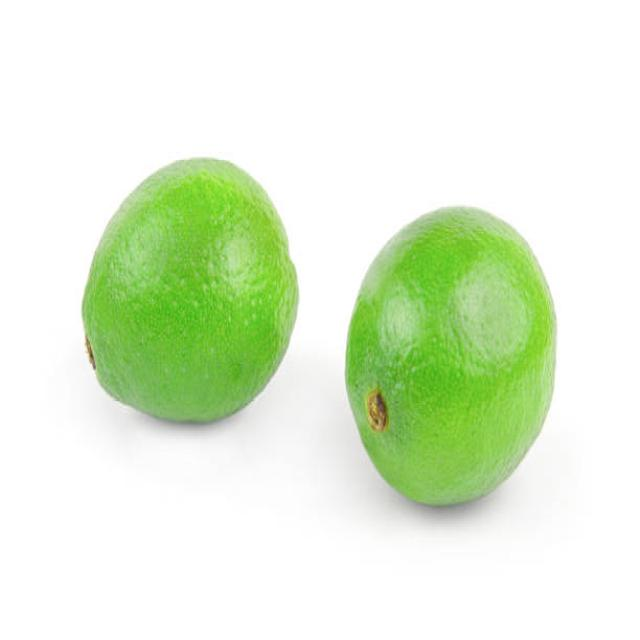Unripe: (346, 203, 560, 506), (81, 155, 300, 426)
